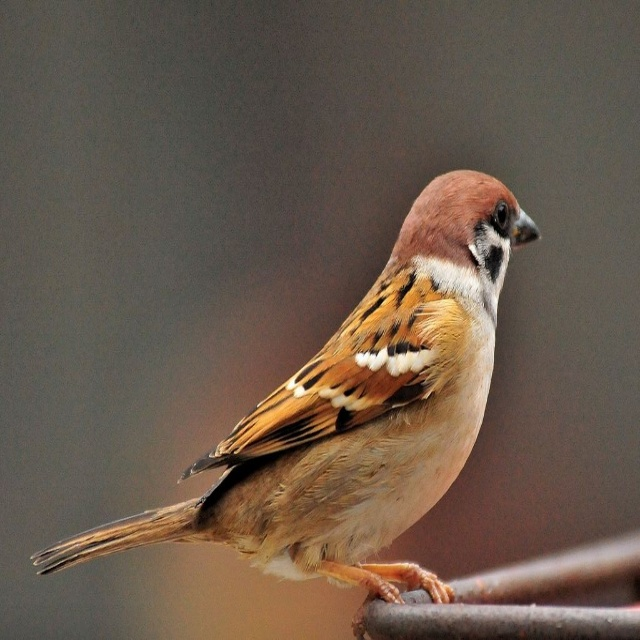Sparrow: (30, 165, 543, 609)
